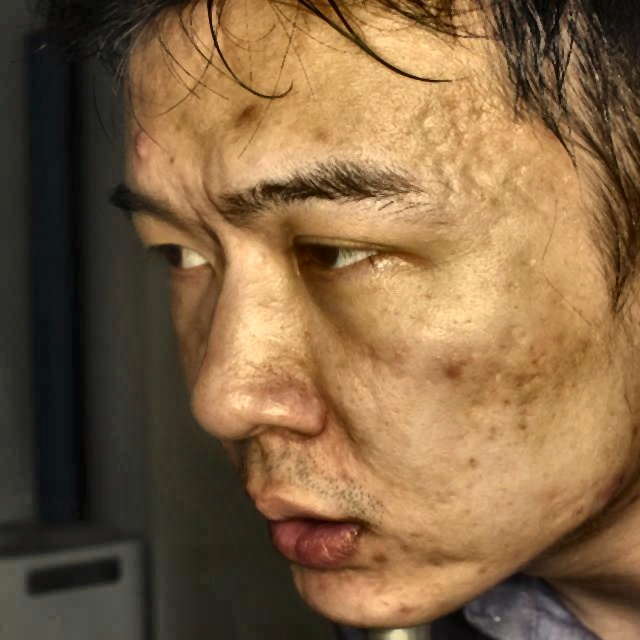comedone: (125, 126, 167, 167), (396, 591, 423, 621), (437, 360, 470, 379), (242, 94, 265, 118), (369, 544, 391, 568)
